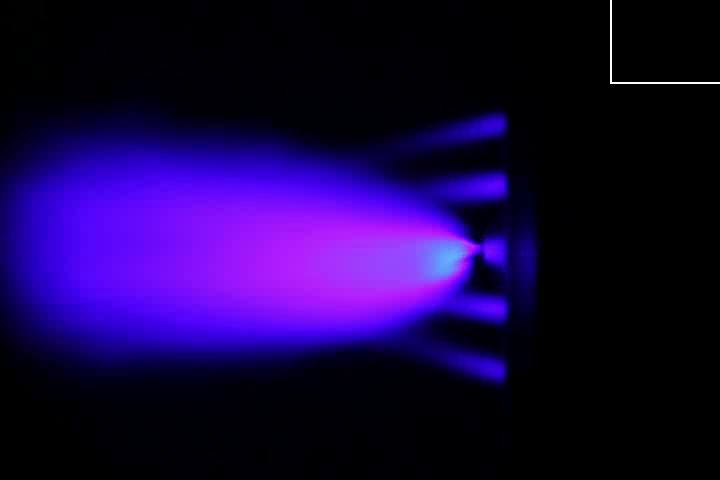burner cap: (480, 233, 509, 270)
pilot flame: (401, 337, 510, 383), (397, 112, 509, 148), (408, 169, 508, 204), (439, 293, 507, 327)
stable: (123, 199, 483, 303)
